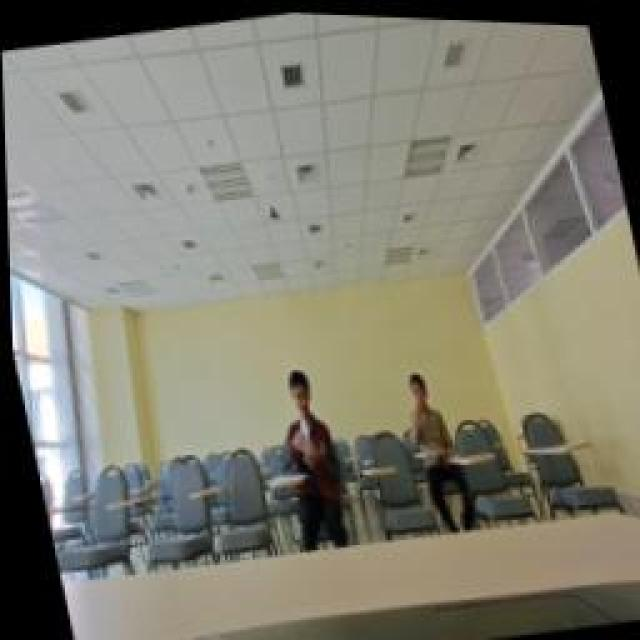study: (262, 362, 338, 480), (398, 367, 452, 455)
